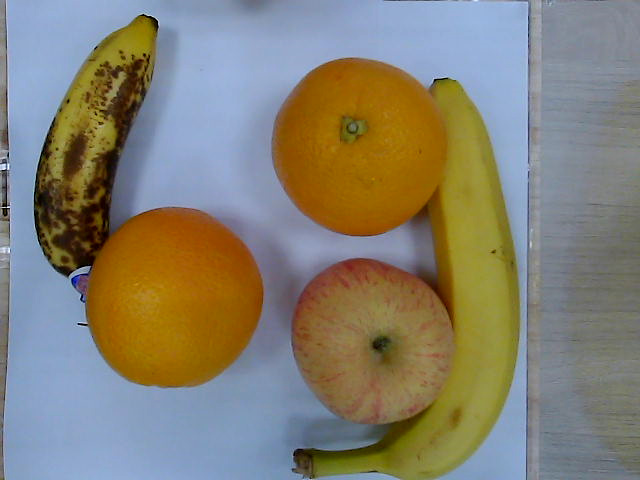fresh_apple: (293, 259, 452, 422)
fresh_banana: (382, 79, 519, 480)
fresh_orange: (87, 208, 264, 388), (271, 57, 447, 238)
rotten_banana: (33, 14, 159, 295)
